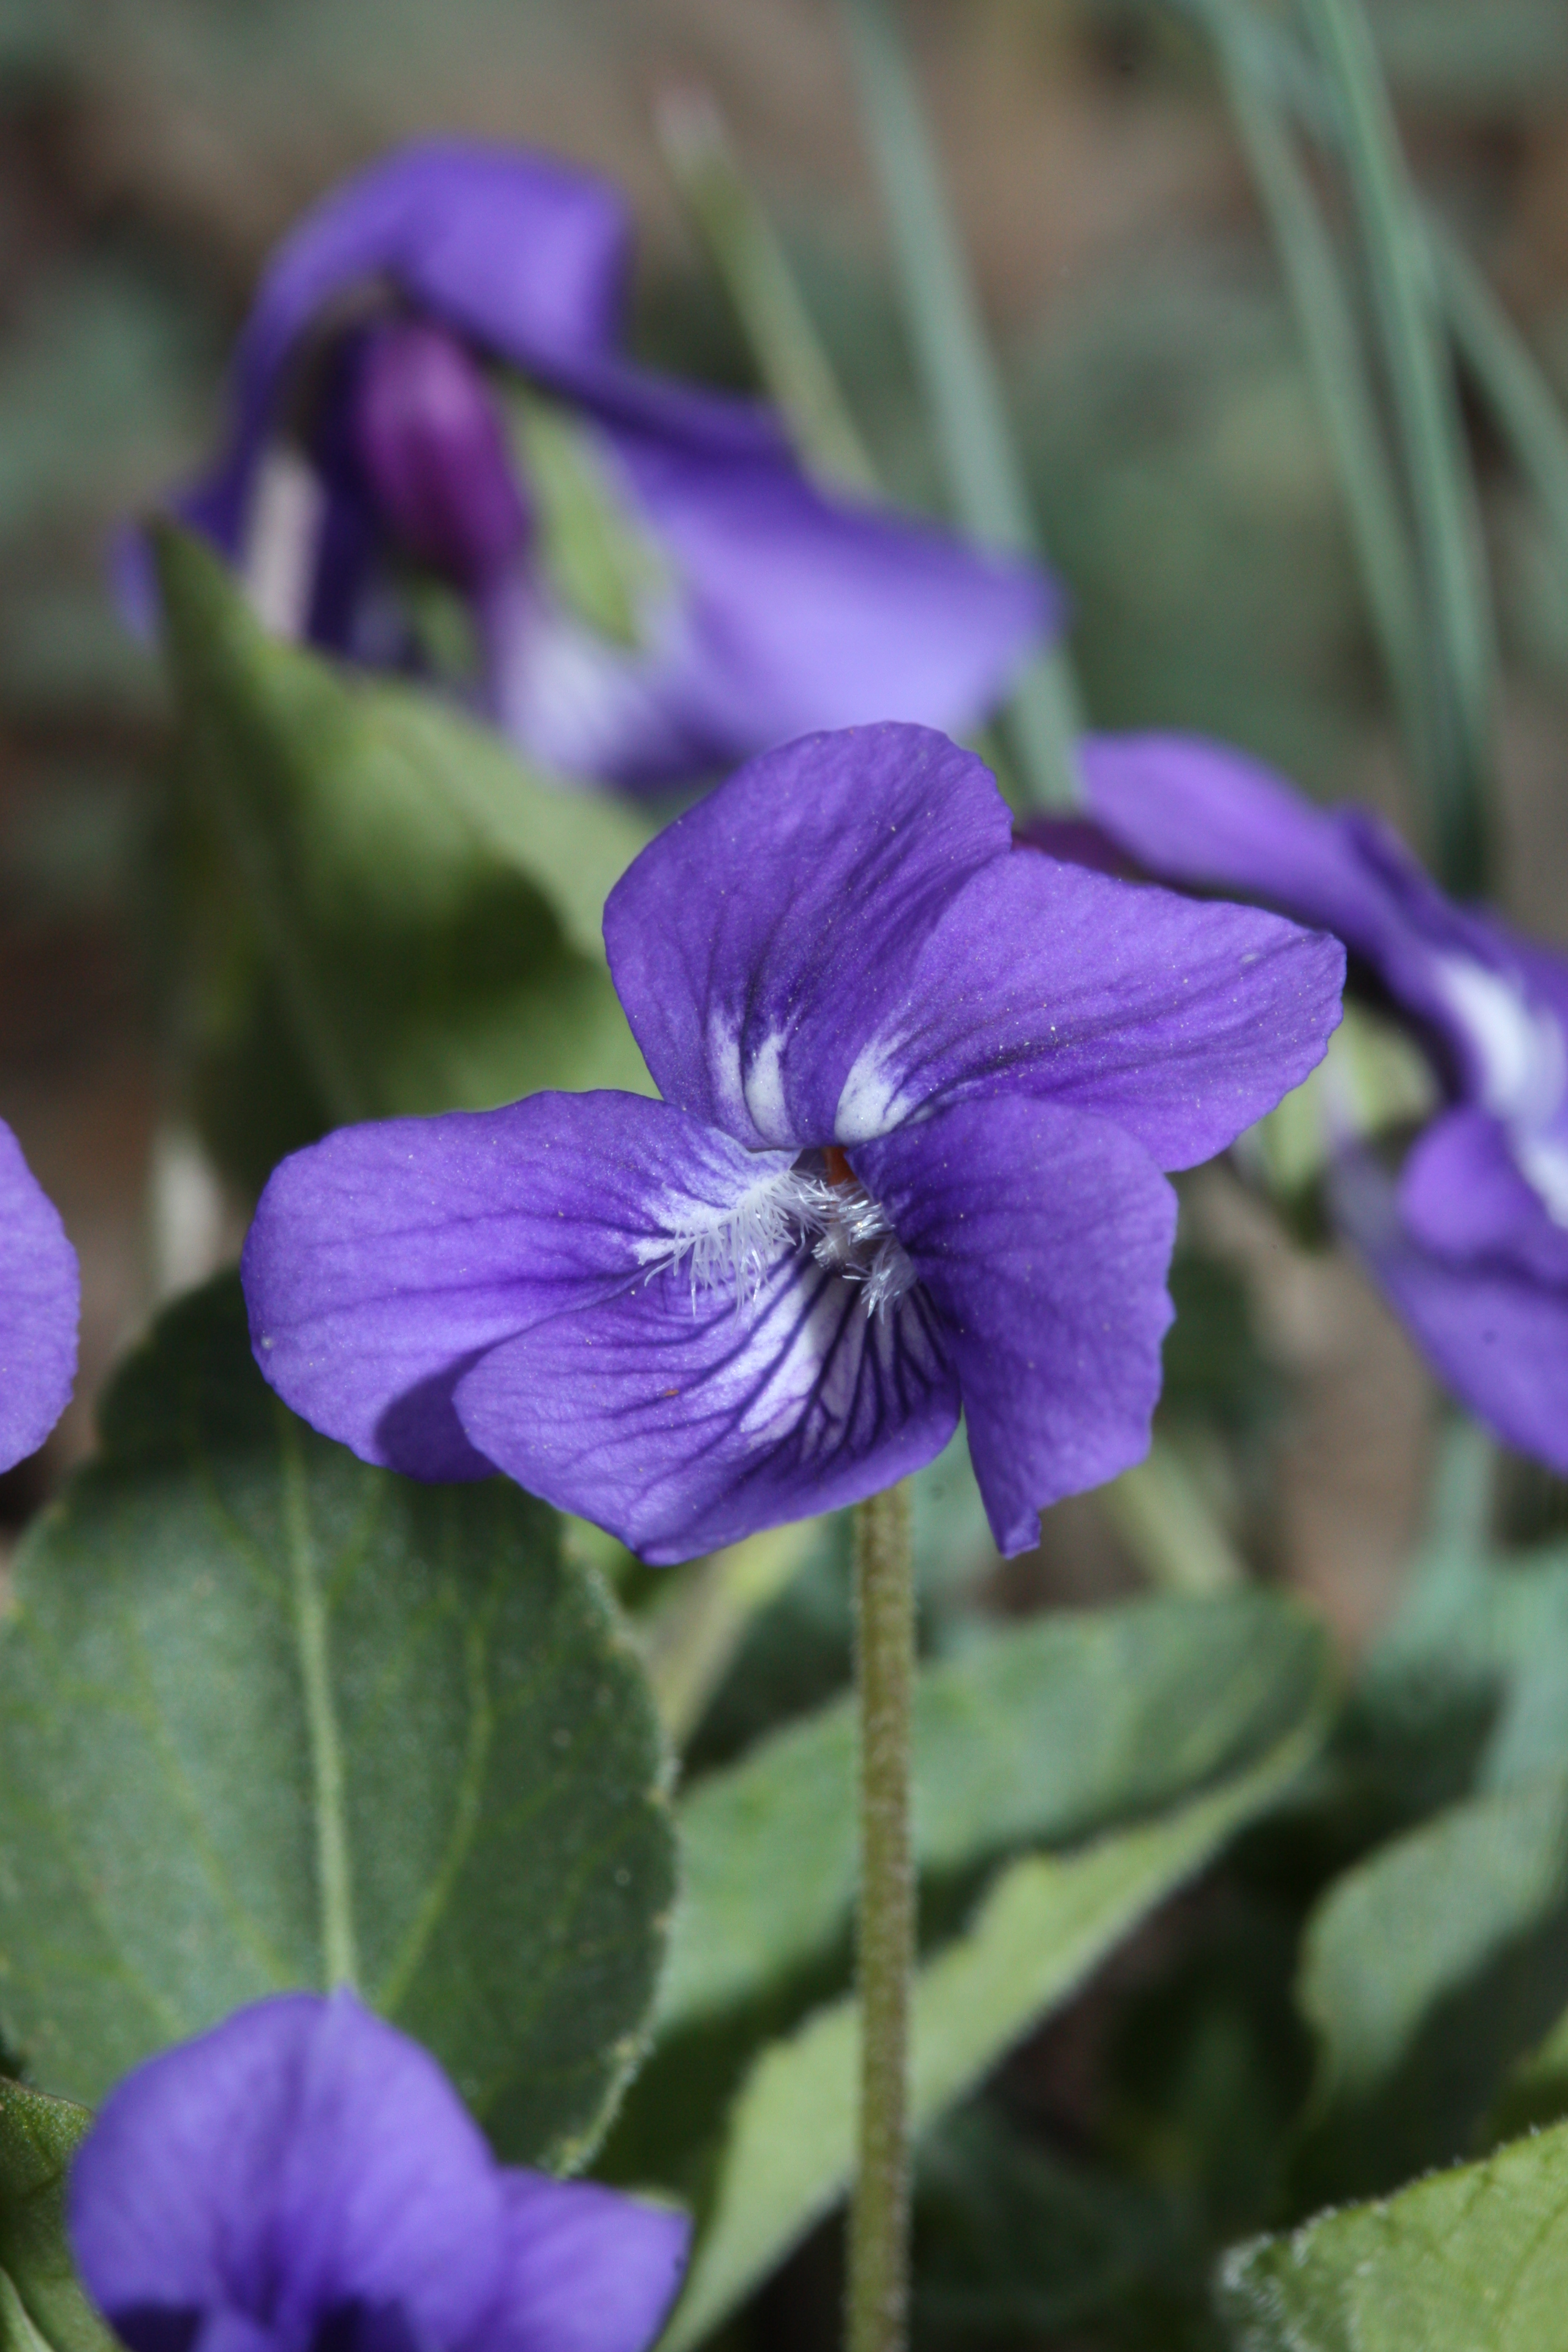violet: (210, 709, 1360, 1640), (51, 1949, 765, 2352)
